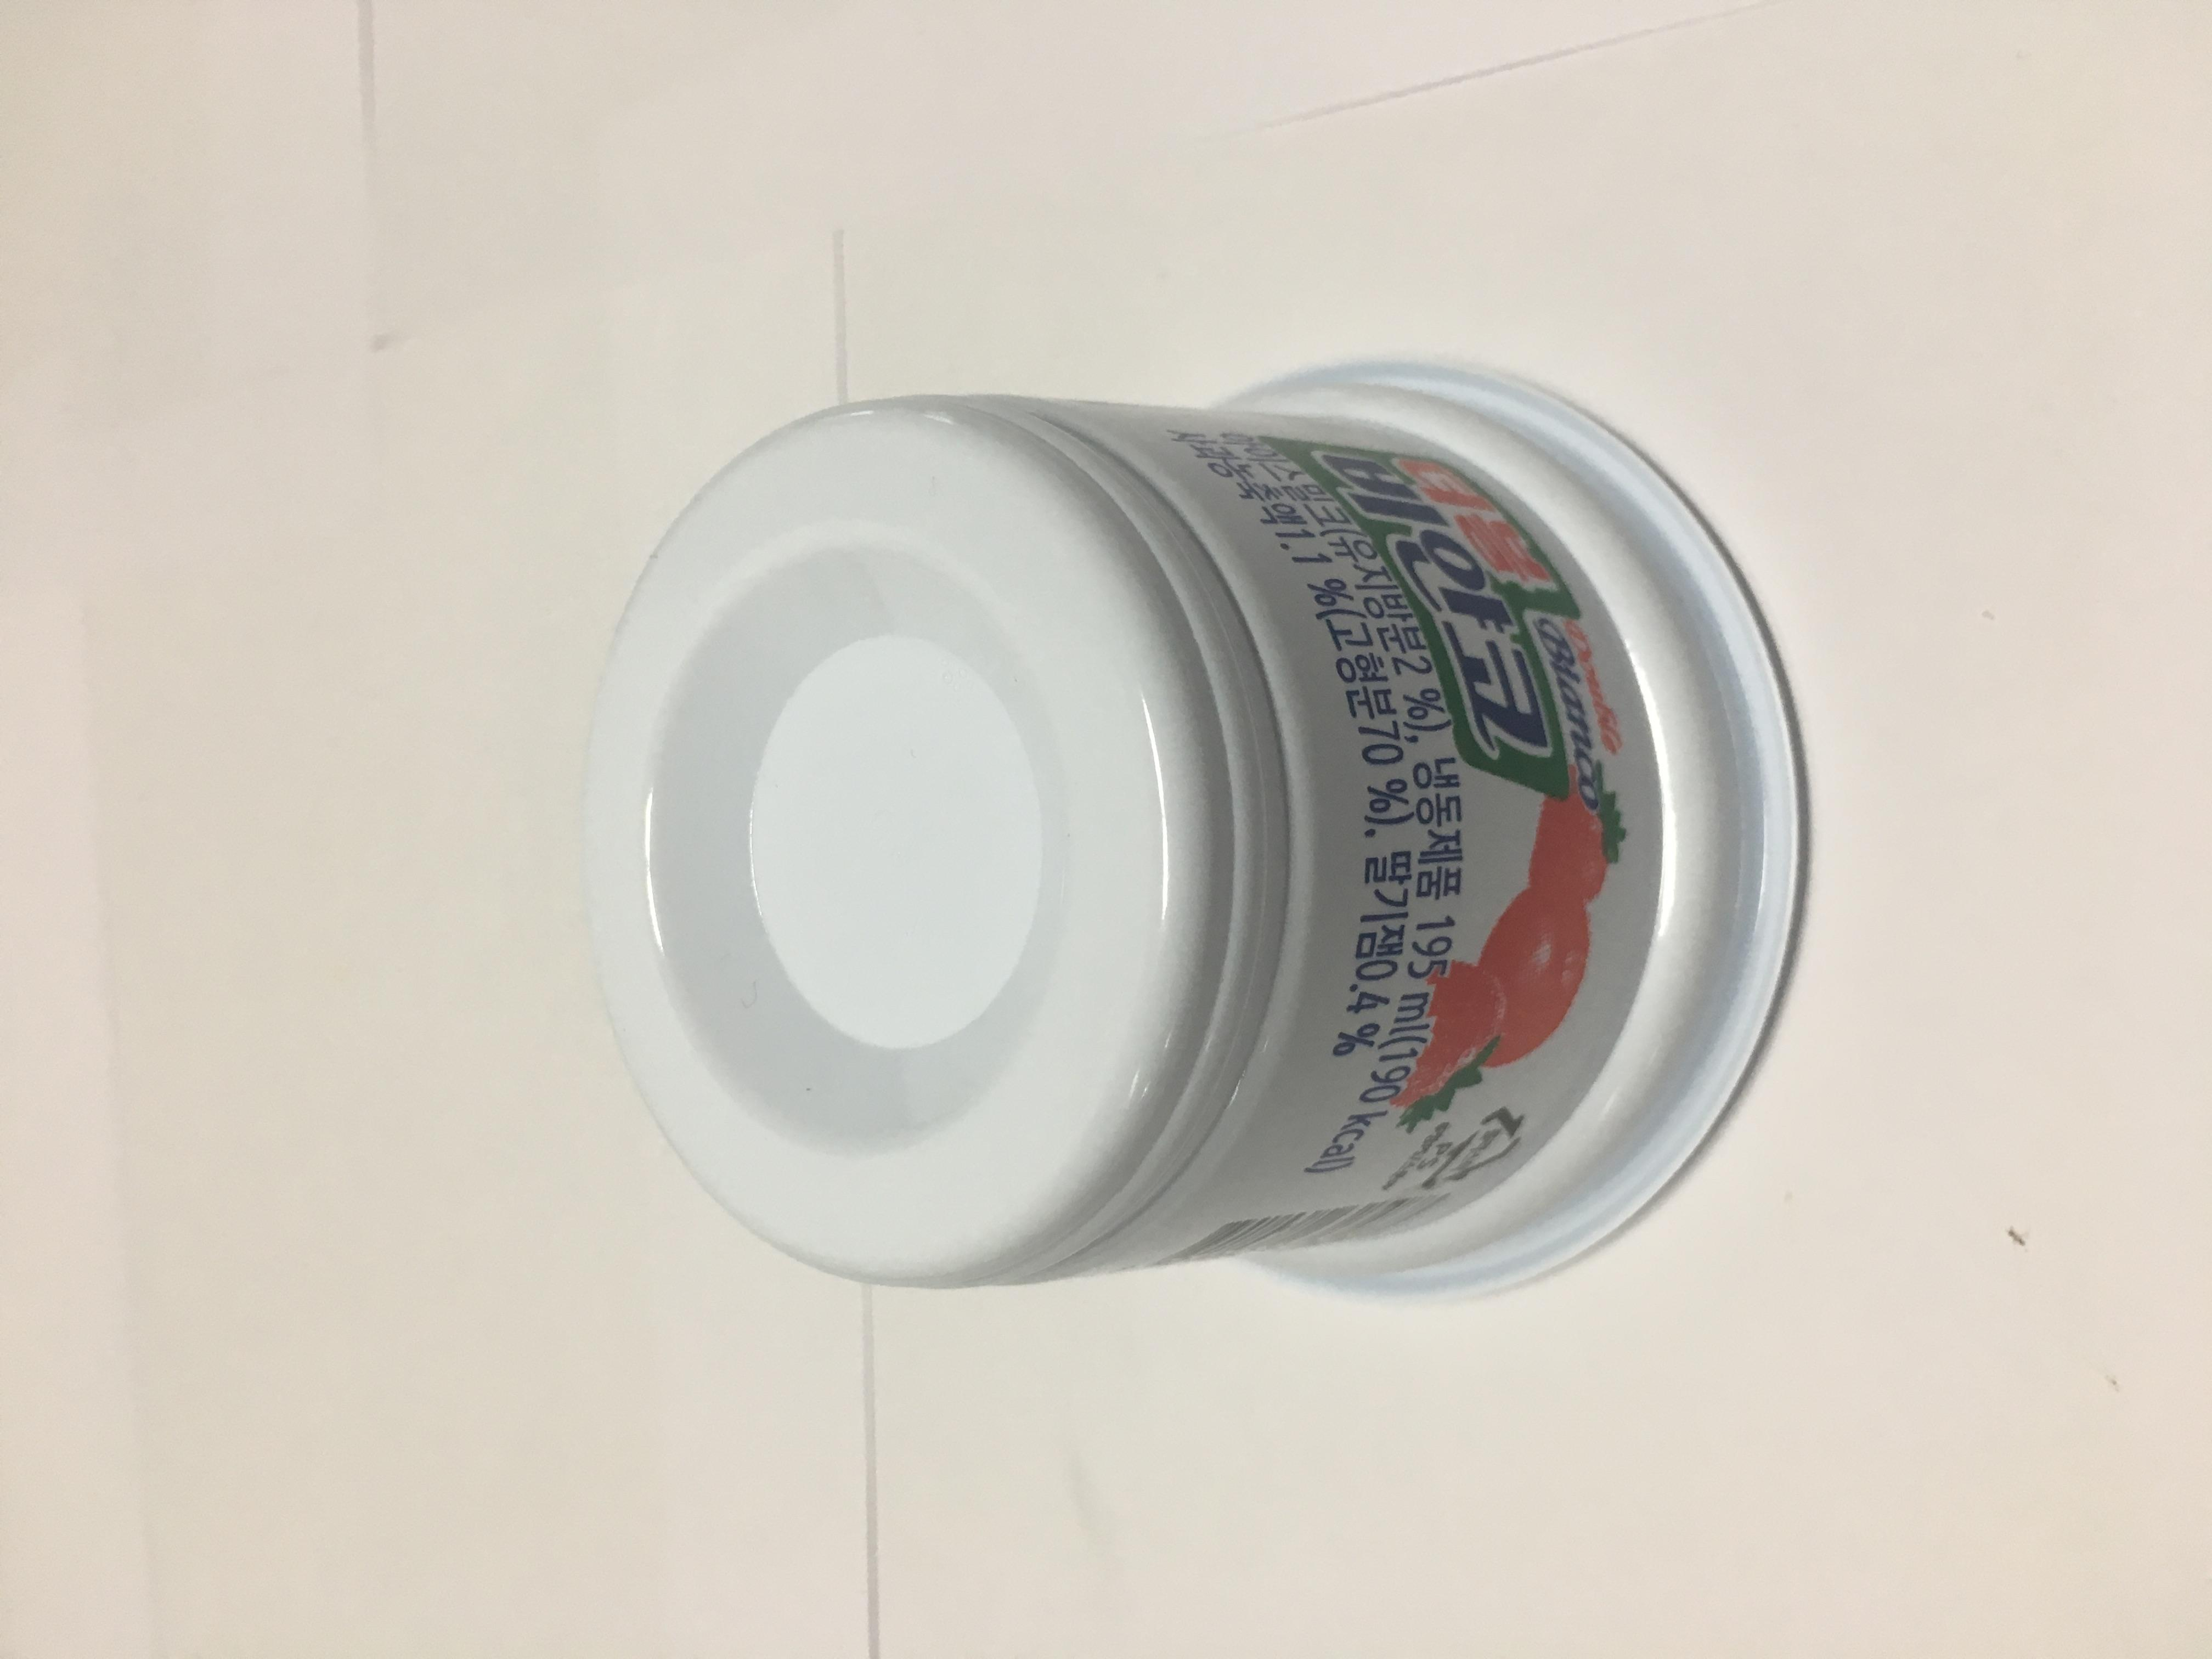bottle: (395, 373, 1796, 1392)
